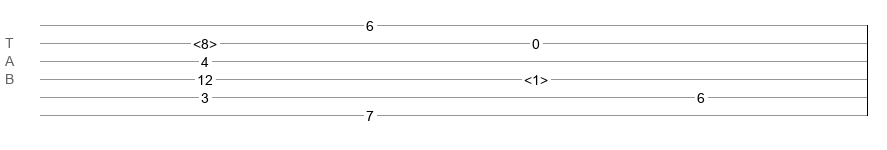0: (532, 36, 540, 46)
12: (197, 72, 213, 82)
3: (201, 90, 209, 100)
4: (201, 54, 209, 64)
6: (366, 18, 374, 28), (697, 90, 705, 100)
7: (366, 108, 374, 118)
harmonic: (193, 36, 217, 46), (524, 72, 548, 82)
